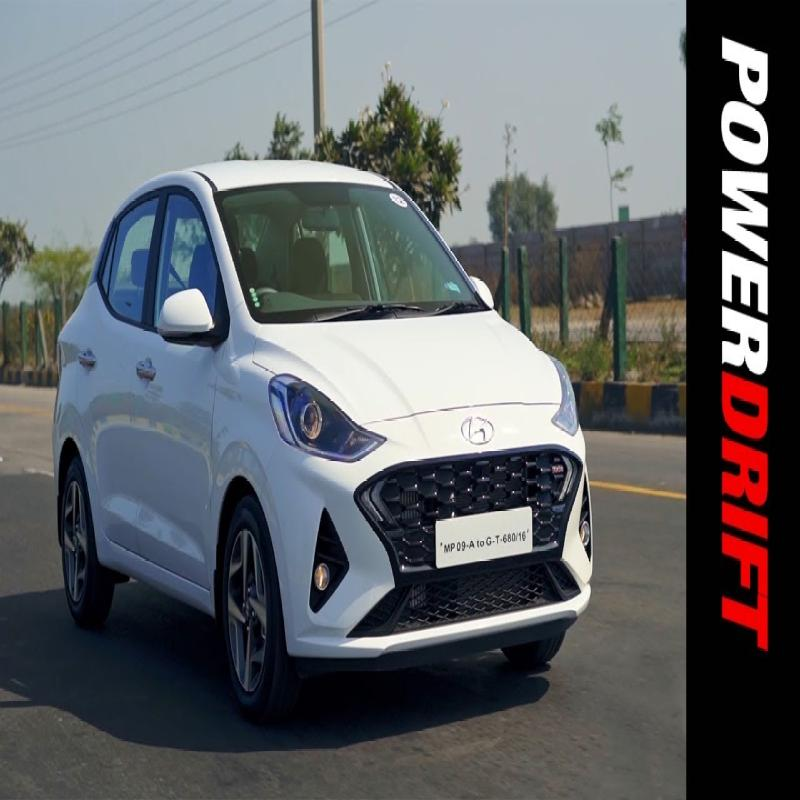car: (58, 139, 603, 708)
